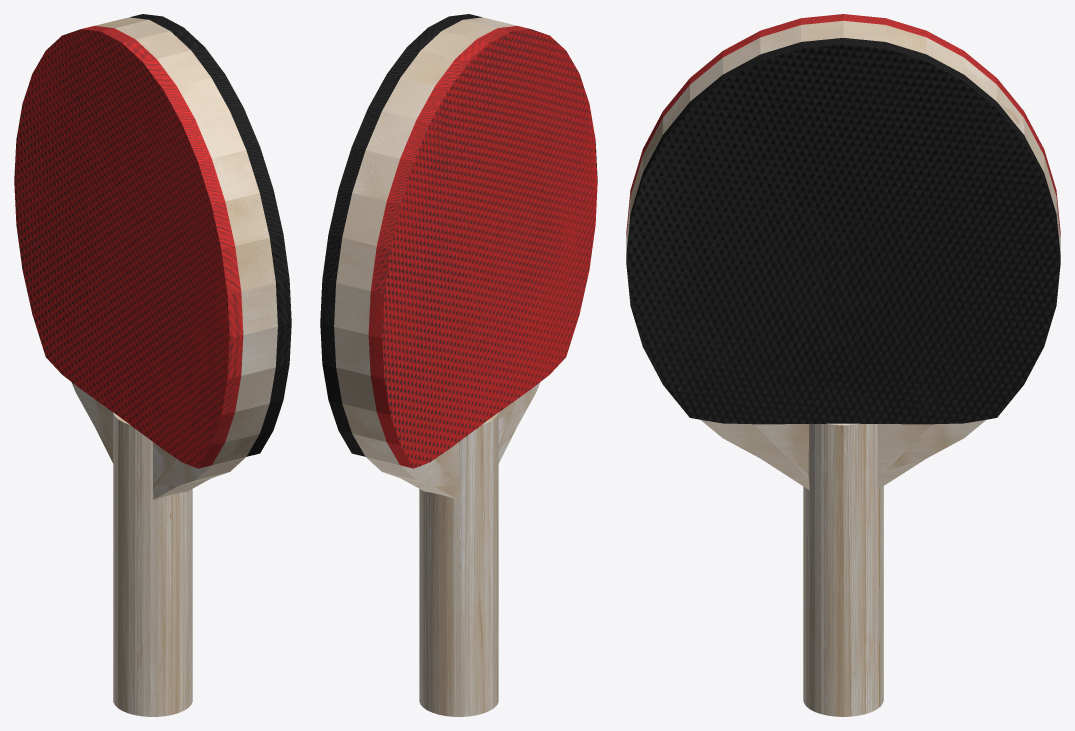
File: Racket.fbx
The picture shows the model from 3 angles, left to right: view 1: azimuth 30°, elevation 25°; view 2: azimuth 150°, elevation 25°; view 3: azimuth 270°, elevation 25°; orthographic projection.
Visible parts, largest first — view 1: Racket_Rubber_Red, Racket_Grip, Racket_Board, Racket_Rubber_Black; view 2: Racket_Rubber_Red, Racket_Grip, Racket_Board, Racket_Rubber_Black; view 3: Racket_Rubber_Black, Racket_Grip, Racket_Board, Racket_Rubber_Red.
Part boxes in pixels (x1=…): Racket_Rubber_Red: x1=14, y1=25, x2=243, y2=468; Racket_Grip: x1=113, y1=412, x2=192, y2=716; Racket_Board: x1=71, y1=17, x2=277, y2=499; Racket_Rubber_Black: x1=130, y1=14, x2=291, y2=456; Racket_Rubber_Red: x1=368, y1=26, x2=597, y2=468; Racket_Grip: x1=419, y1=412, x2=498, y2=716; Racket_Board: x1=334, y1=17, x2=540, y2=499; Racket_Rubber_Black: x1=320, y1=14, x2=481, y2=456; Racket_Rubber_Black: x1=626, y1=38, x2=1060, y2=424; Racket_Grip: x1=803, y1=423, x2=883, y2=716; Racket_Board: x1=626, y1=20, x2=1060, y2=490; Racket_Rubber_Red: x1=626, y1=14, x2=1060, y2=237.
Size of the model in its own units: 540 by 100 by 920.
3 materials, 3 textured.
